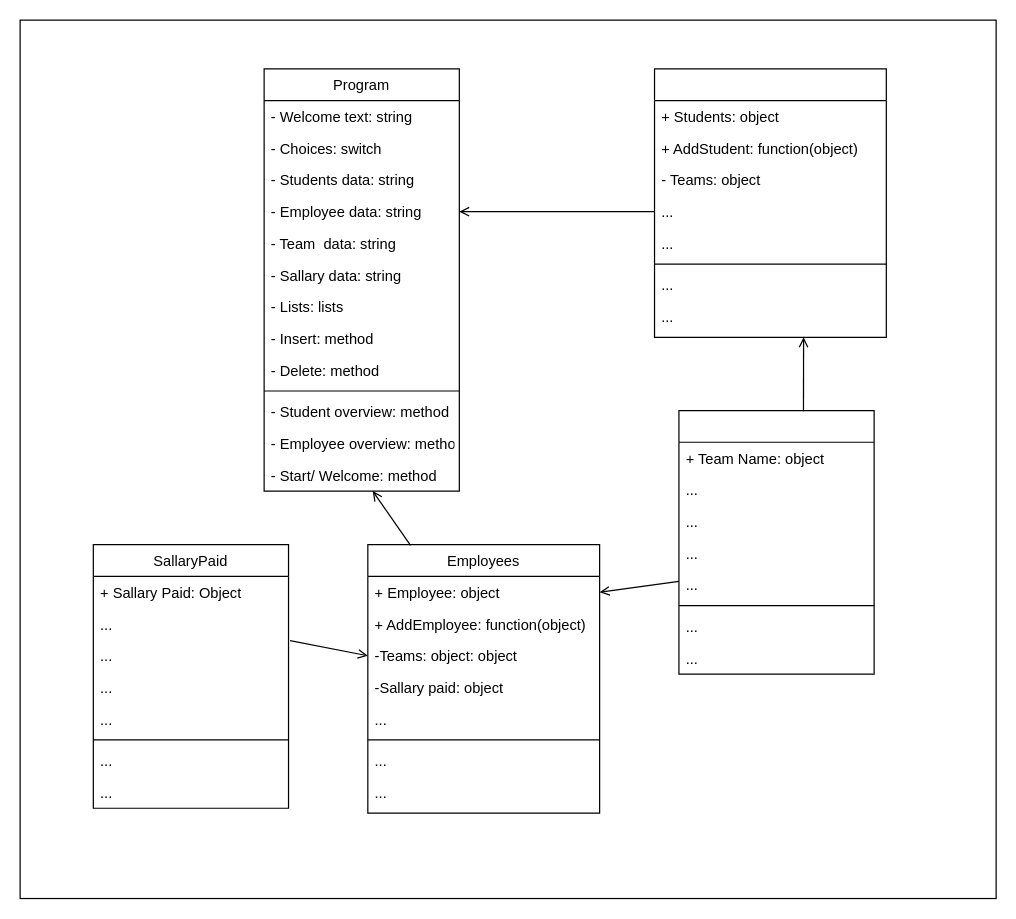
Image size: 1016x919. Some labels were removed from this diagram. Each missing label, with the box of its shape:
StudentLibrary: (653, 68, 886, 337)
Teams: (678, 409, 874, 674)
